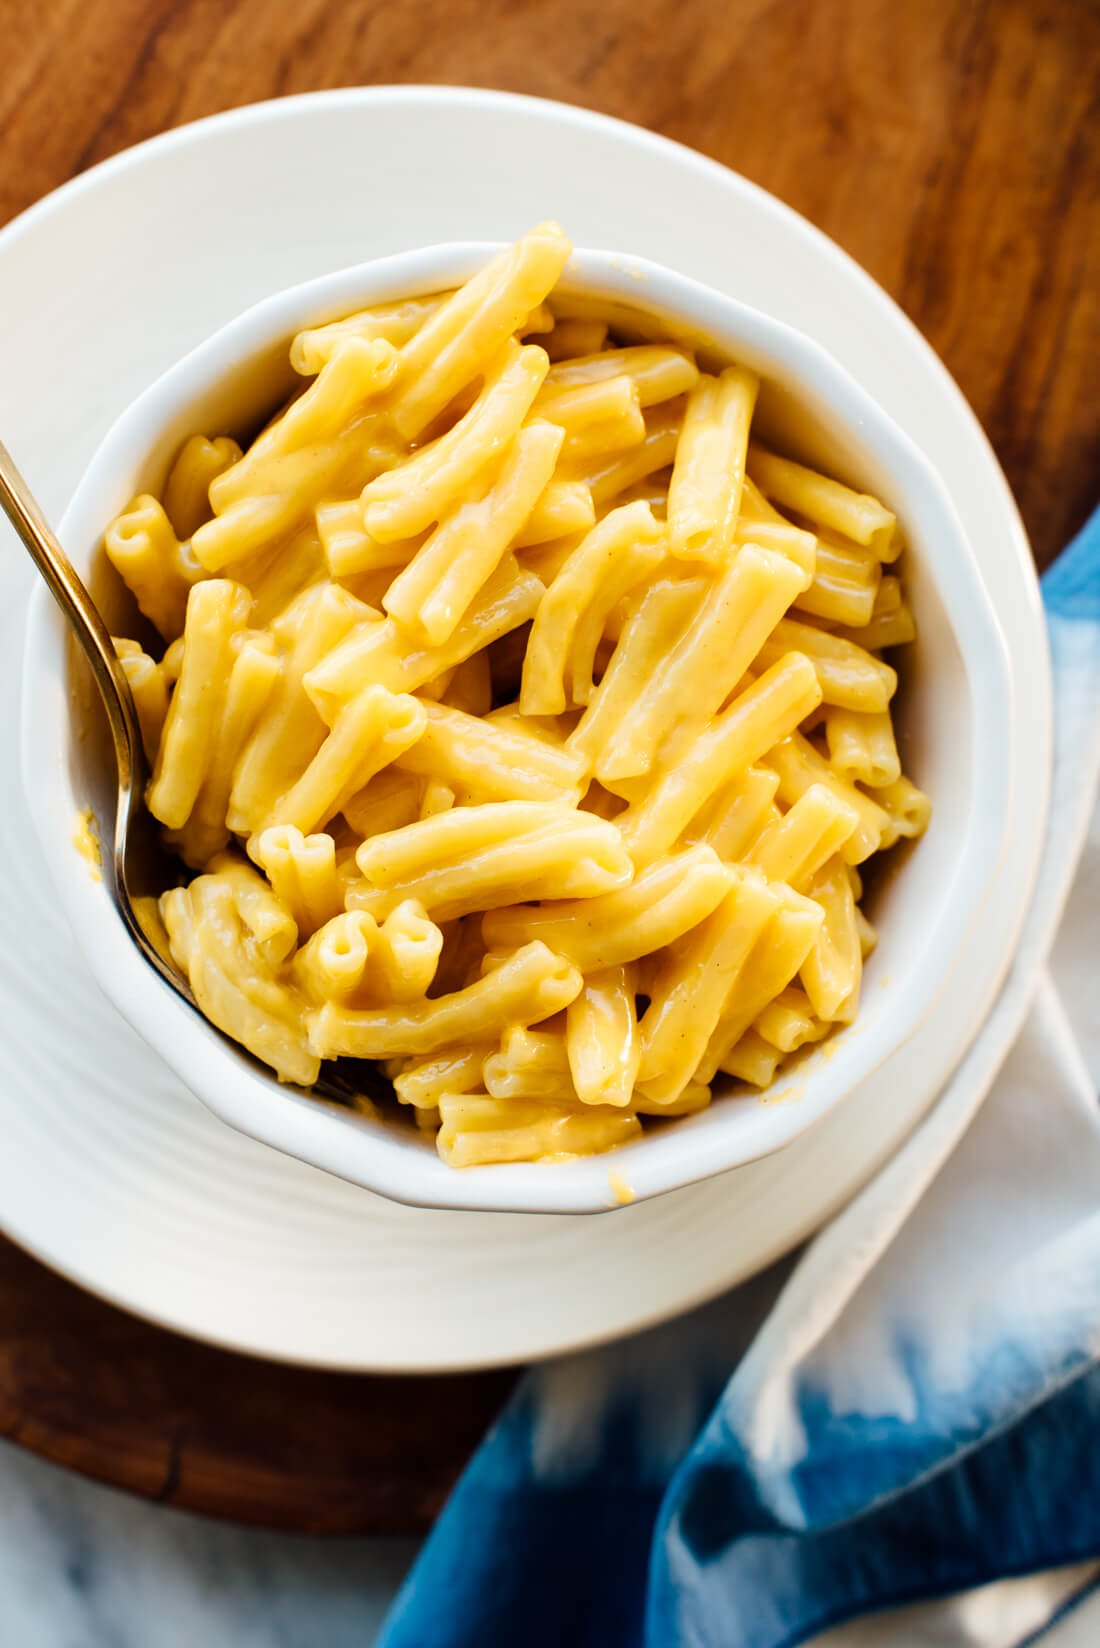macncheese: (54, 291, 1100, 1338)
